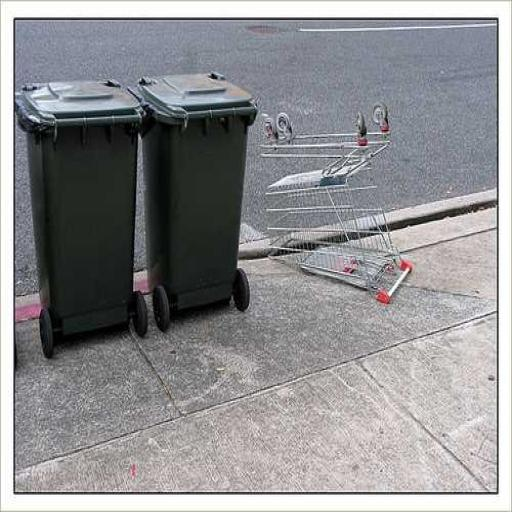shopping_cart: (258, 100, 414, 308)
